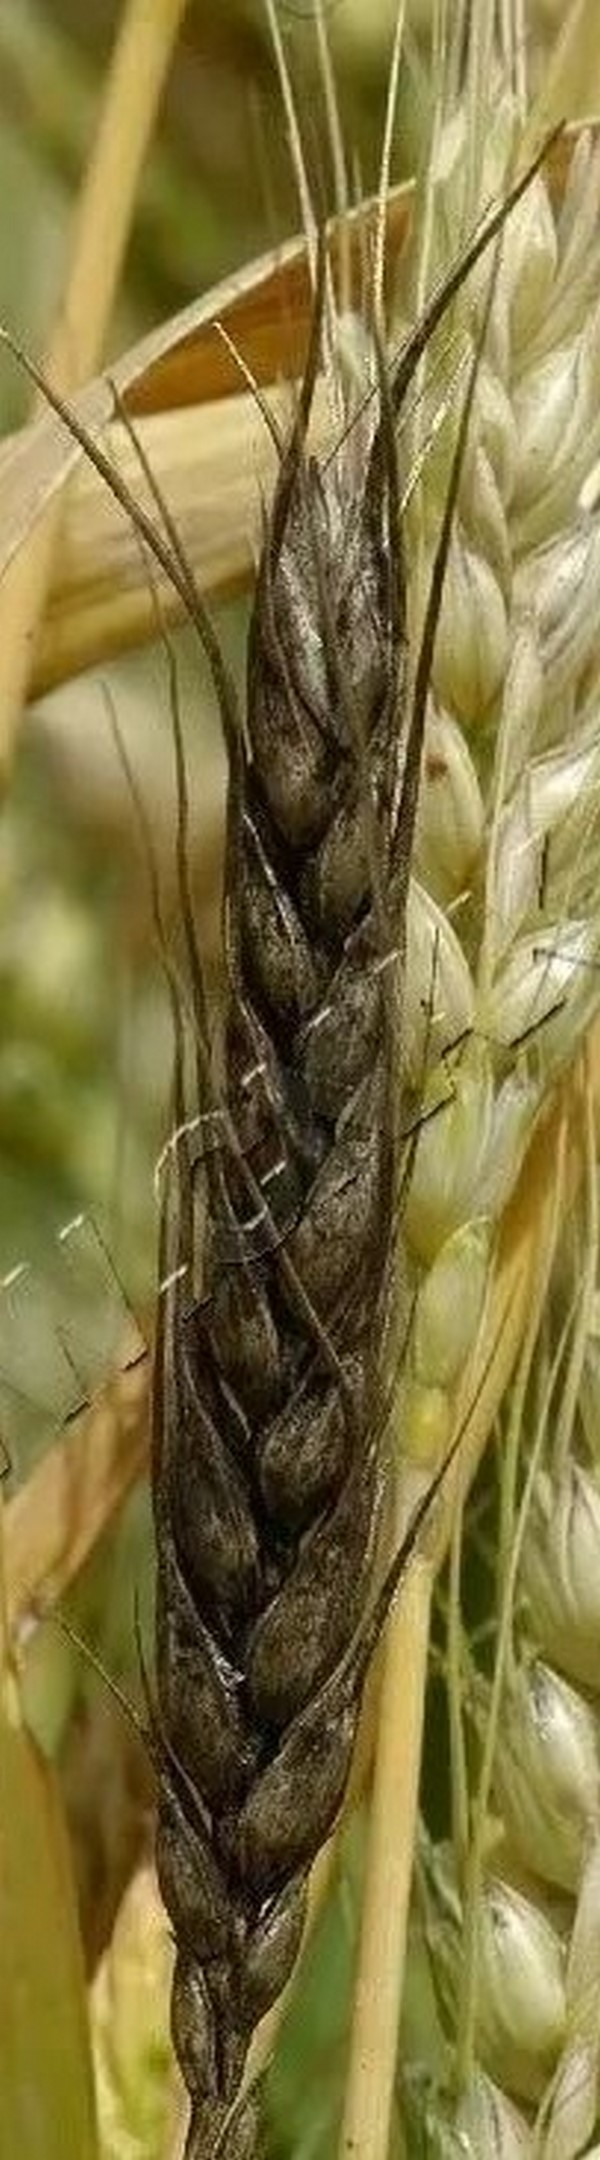Wheat Loose Smut: (133, 452, 416, 1989)
